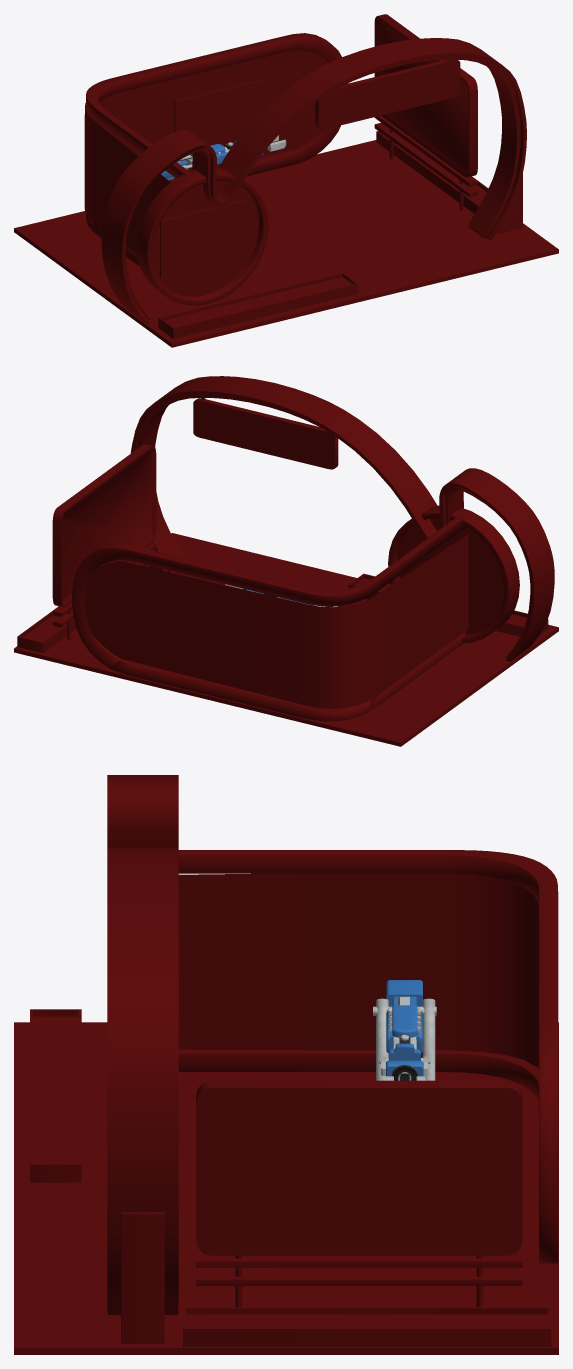
File: Robototehnika_last.fbx
3 renders of one model, top to bottom at view 1: azimuth 30°, elevation 25°; view 2: azimuth 150°, elevation 25°; view 3: azimuth 270°, elevation 25°, orthographic. The views are drawn at different scales.
Parts seen in each view (by area): view 1: Plane_low, Robot; view 2: Plane_low; view 3: Plane_low, Robot.
Part boxes in pixels (x1,y1,x2,y2): Plane_low: (14, 14, 558, 347); Robot: (161, 135, 286, 180); Plane_low: (14, 376, 558, 746); Plane_low: (14, 775, 558, 1354); Robot: (373, 980, 436, 1080).
Size of the model in its own units: 11.2 by 5.41 by 7.48.
2 materials, 1 textured.
